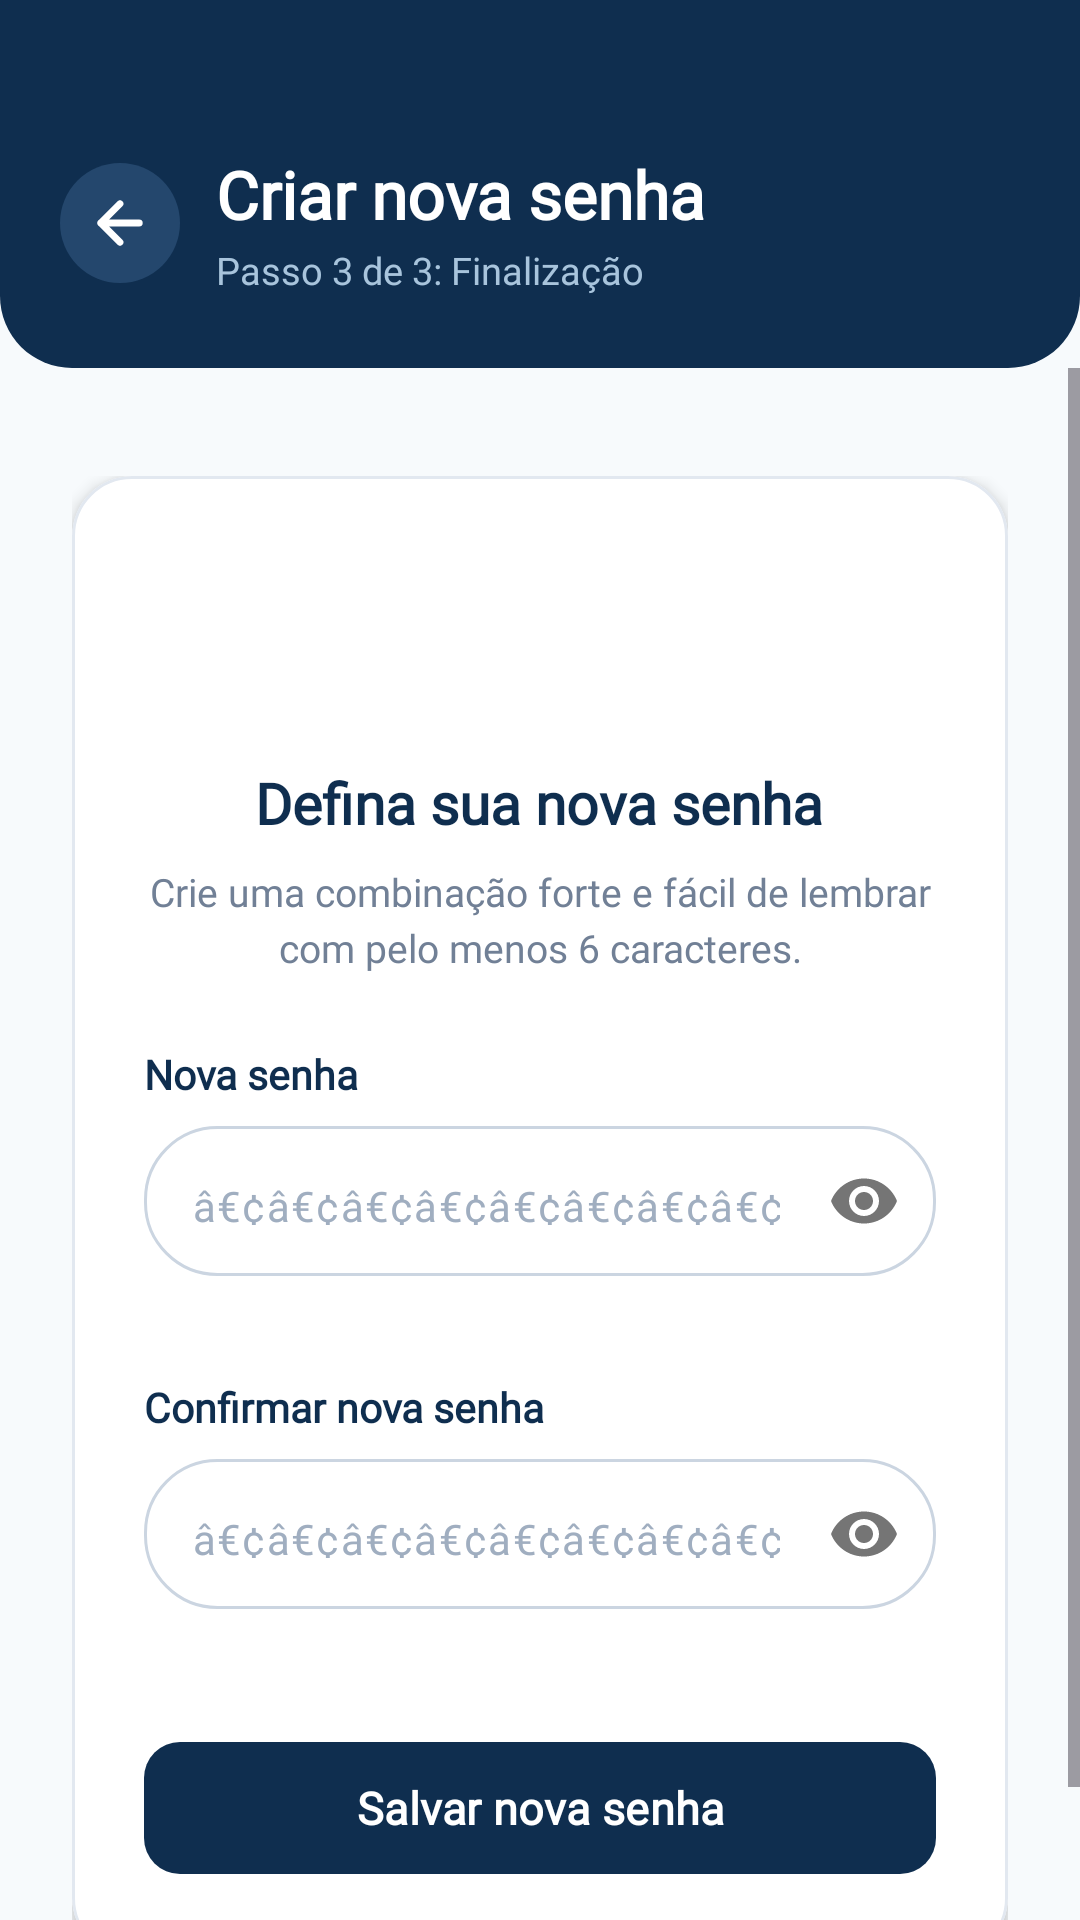

Locate icon controls on the screen. Image size 1080px x 1920px, boxes as [x1=x1, y1=y1, x2=x2, y2=y2].
Voltar: [x1=97, y1=200, x2=143, y2=246]
